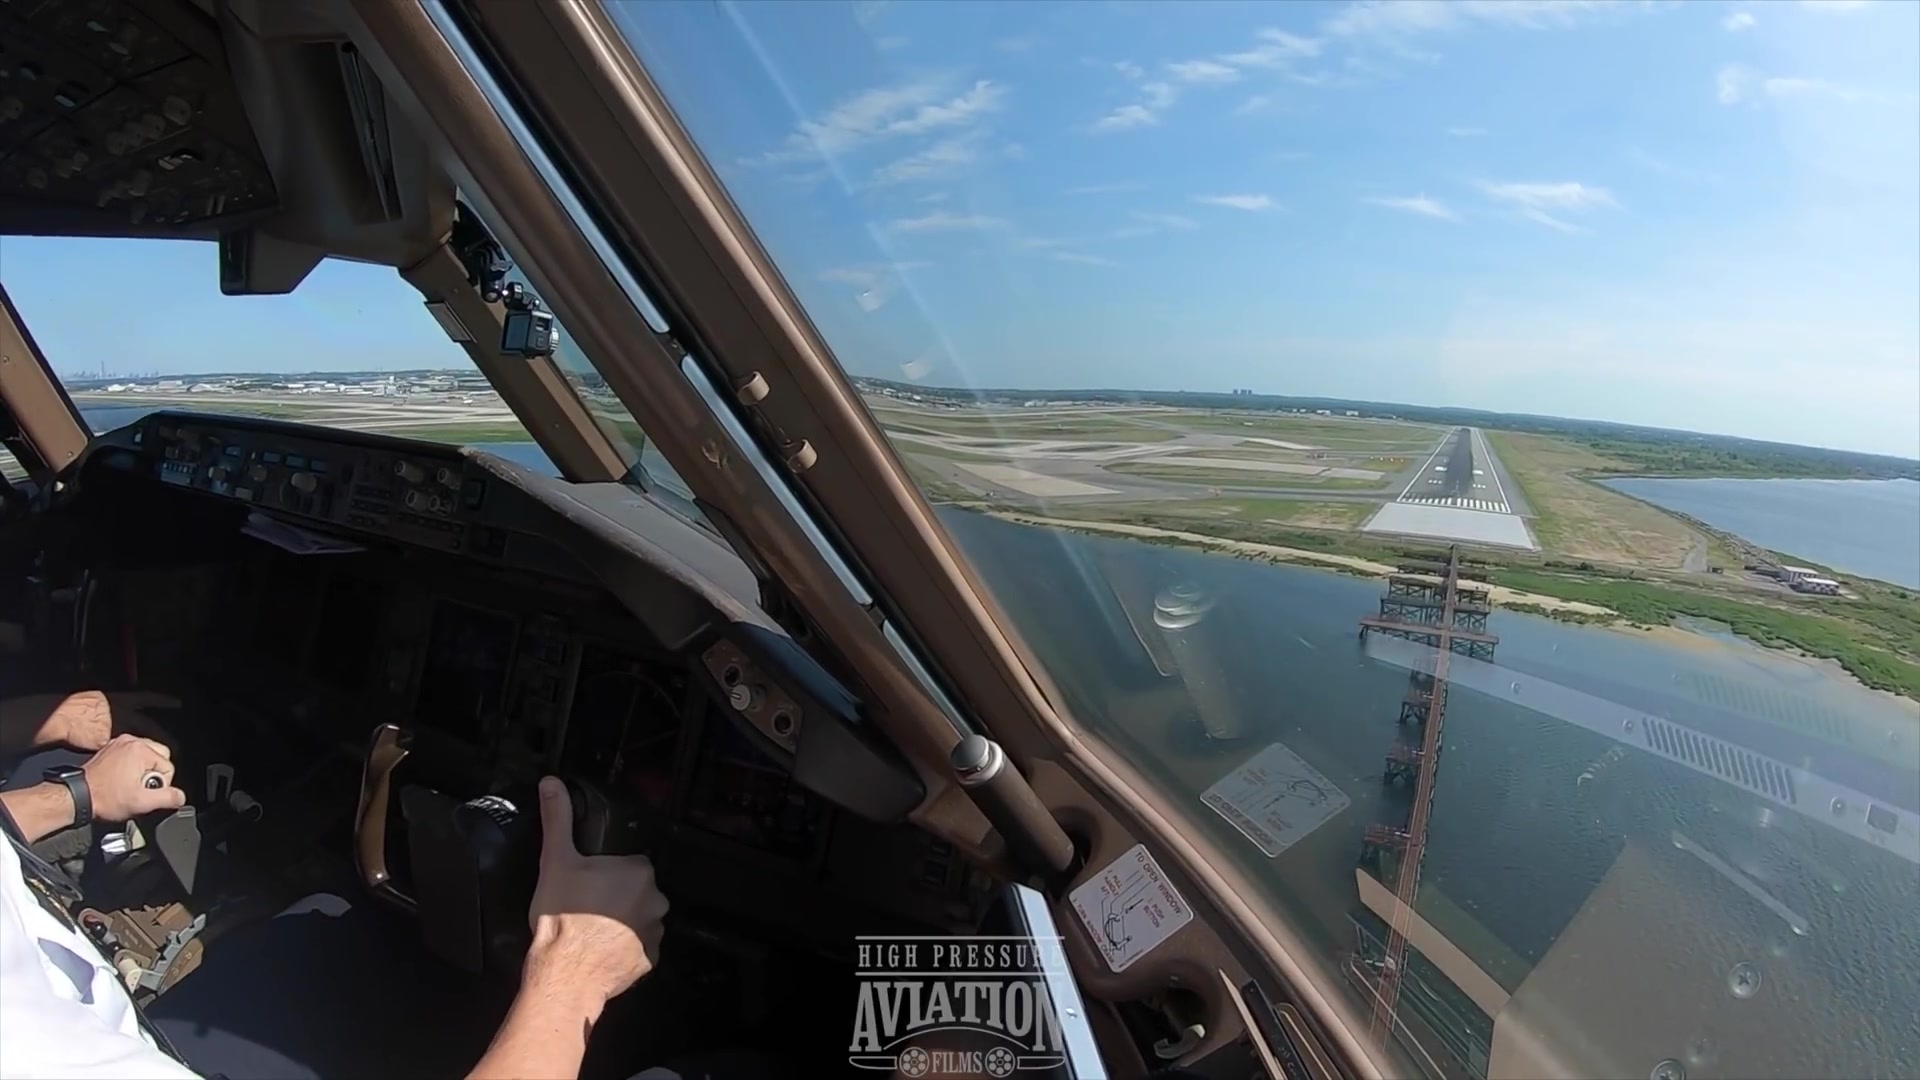entrance: (1398, 493, 1507, 512)
runway: (1393, 425, 1515, 517)
